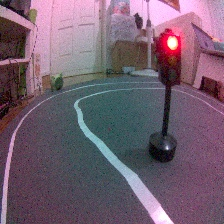red: (151, 26, 185, 165)
